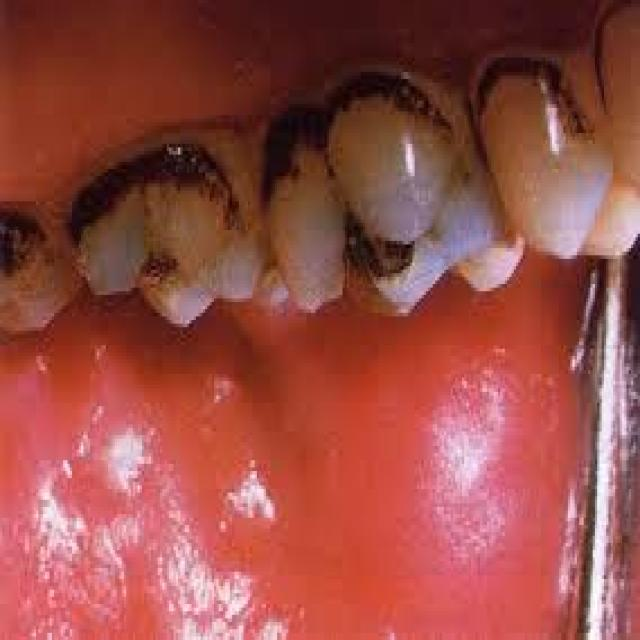Tooth Discoloration: (260, 68, 450, 198), (64, 138, 240, 268), (463, 56, 585, 160), (342, 214, 422, 286), (0, 198, 32, 284)
